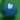blue: (0, 0, 20, 20)
